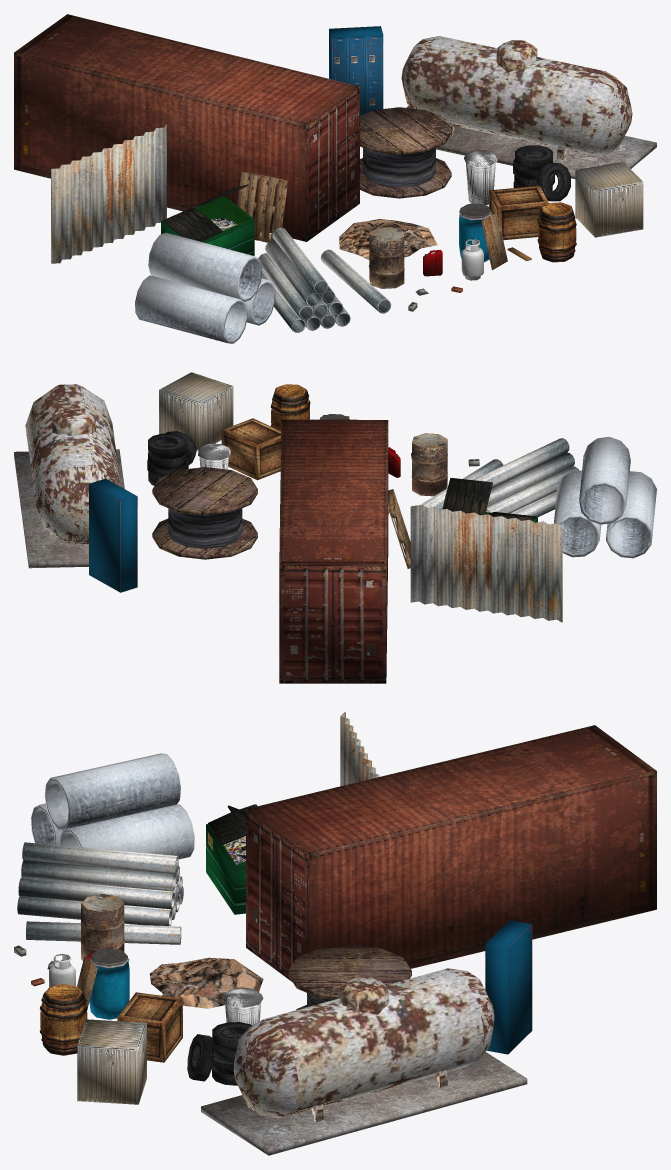
Rendered from showcase.glb.
The picture shows the model from 3 angles, top to bottom: view 1: azimuth 30°, elevation 25°; view 2: azimuth 150°, elevation 25°; view 3: azimuth 270°, elevation 25°; orthographic projection. The views are drawn at different scales.
Visible parts, largest first — view 1: Showcase; view 2: Showcase; view 3: Showcase.
Part boxes in pixels (x1,y1,x2,y2): Showcase: (14,14,656,343); Showcase: (14,372,656,683); Showcase: (14,712,656,1155).
Bounding box in the file's own units: 12.75 × 2.5 × 10.4.
Materials: 2 (2 with a texture image).
